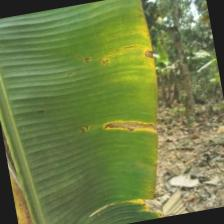pestalotiopsis: (0, 0, 180, 224)
